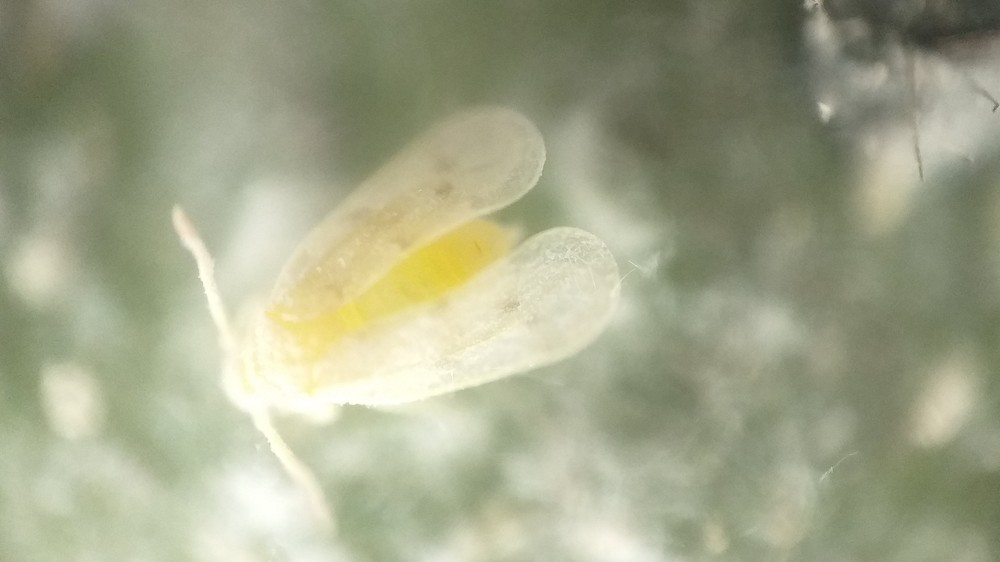Mosca Blanca: (148, 93, 668, 549)
